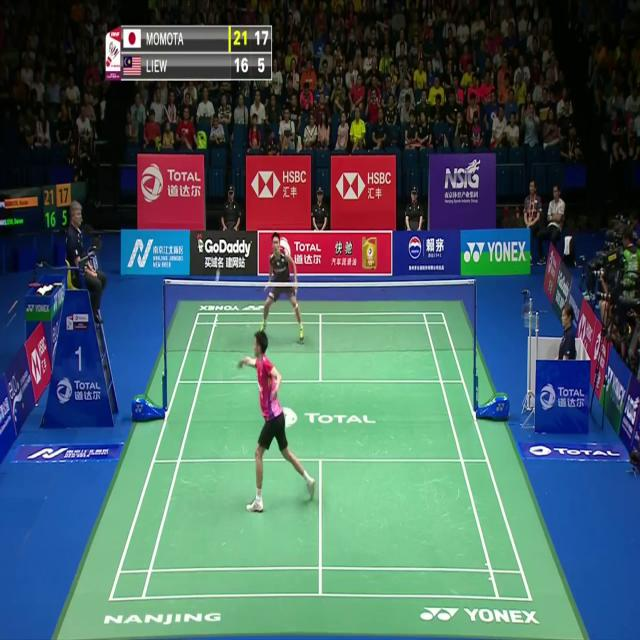Shuttlecock: (215, 271, 221, 282)
